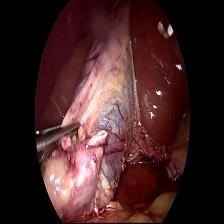Grasper: (34, 120, 84, 158)
